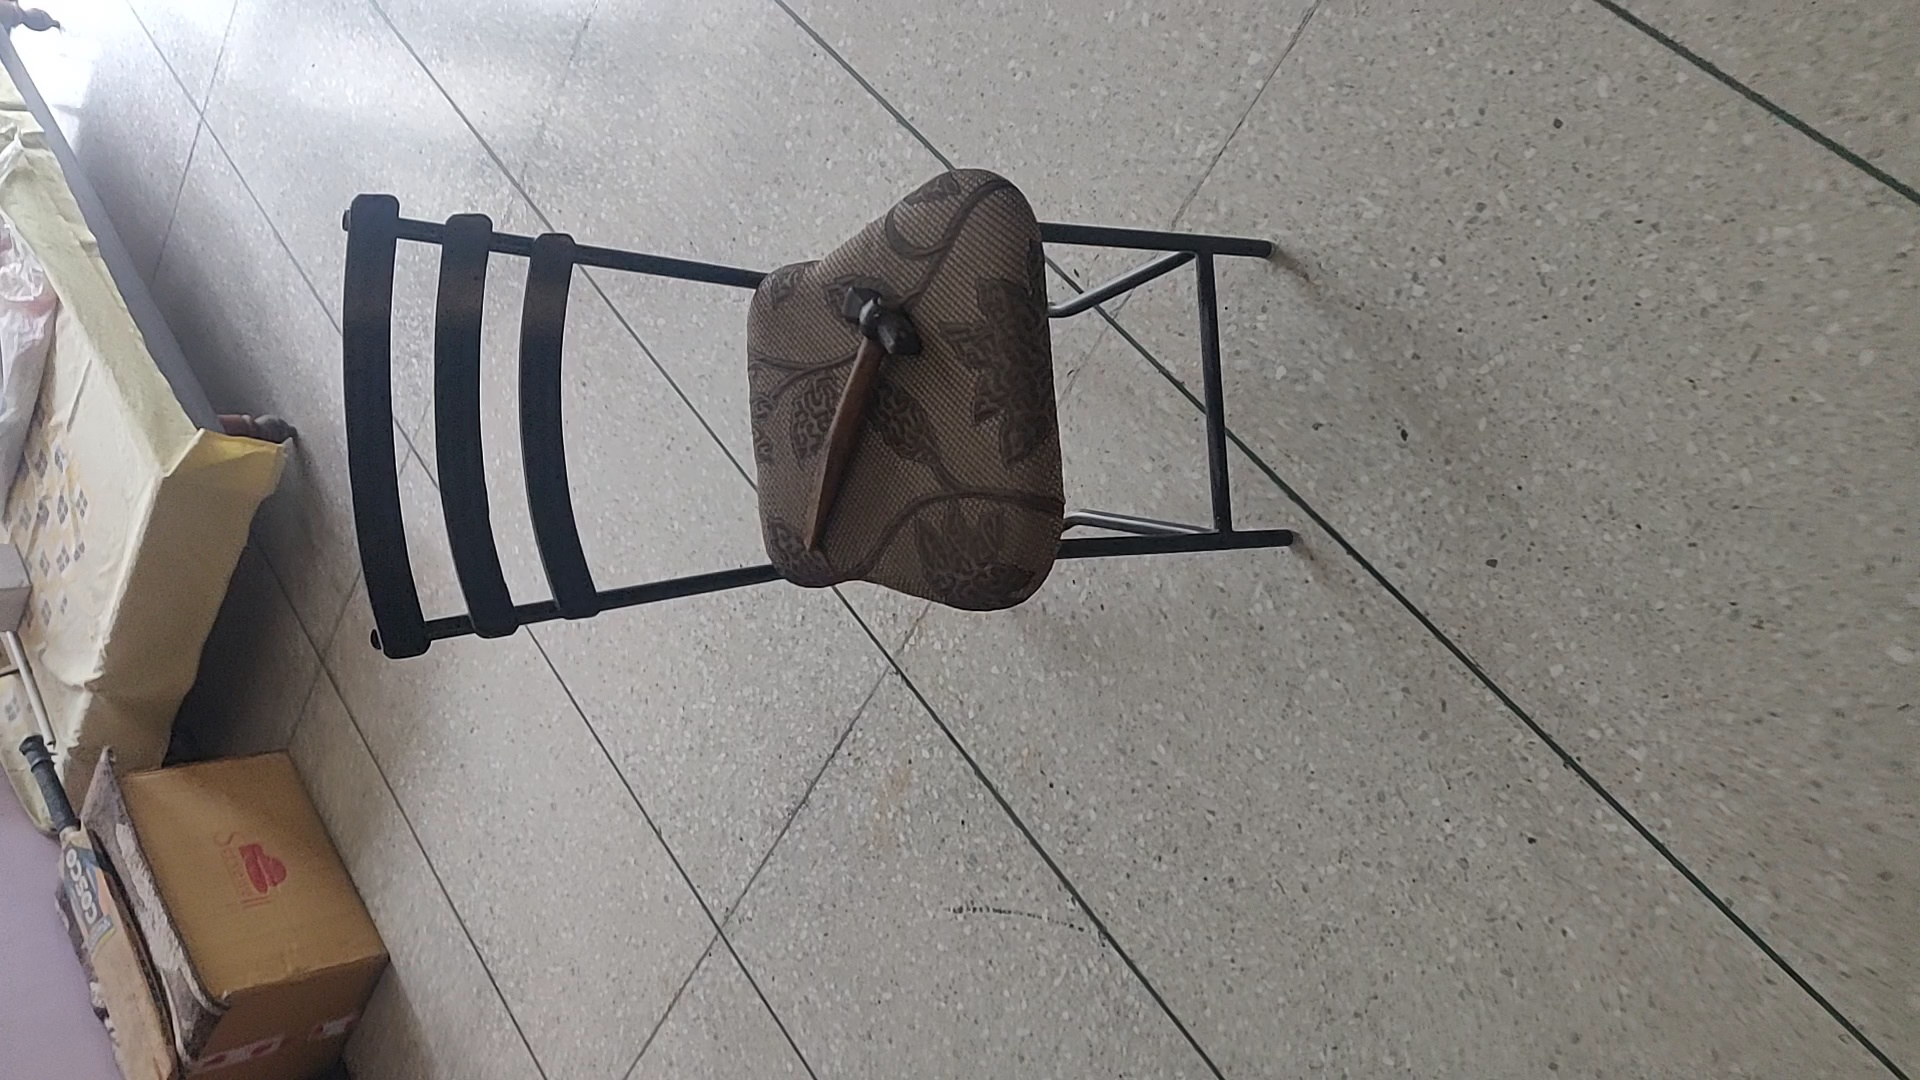hammer: (789, 284, 922, 553)
